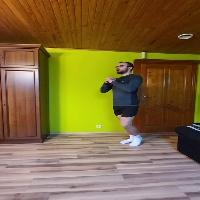lunges: (98, 50, 148, 149)
